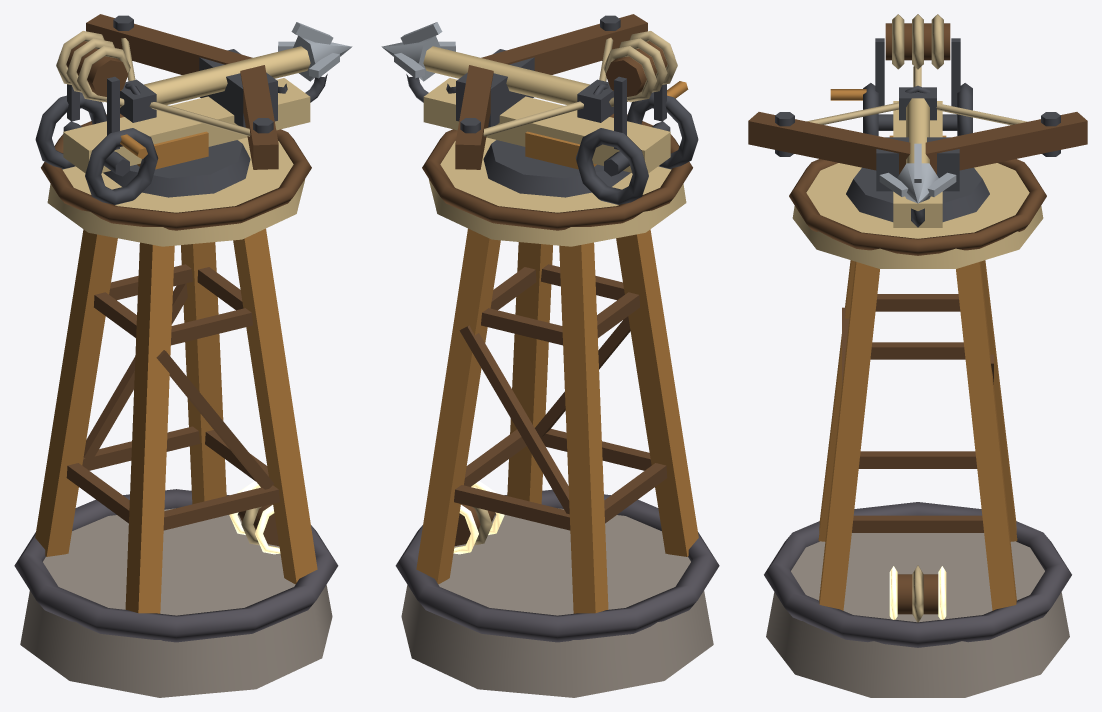
File: tower_ballista_harpoon.glb
The picture shows the model from 3 angles, left to right: view 1: azimuth 30°, elevation 25°; view 2: azimuth 150°, elevation 25°; view 3: azimuth 270°, elevation 25°; orthographic projection. The views are drawn at different scales.
Visible parts, largest first — view 1: base, leg_wn, leg_en, base_rim, leg_ws, deck, leg_es, deck_rim, stock, turret_ring, bow_arm_r, bolt_shaft (+25 smaller); view 2: base, leg_ws, leg_es, base_rim, leg_wn, deck, leg_en, deck_rim, stock, turret_ring, bow_arm_l, bolt_shaft (+25 smaller); view 3: base, base_rim, deck, leg_en, leg_es, deck_rim, bow_arm_l, bow_arm_r, turret_ring, ring_e_0.21, ring_w_0.21, leg_ws (+21 smaller).
Part boxes in pixels (x1,y1,x2,y2): base: (20,508,332,697); leg_wn: (125,242,174,613); leg_en: (233,228,317,584); base_rim: (14,489,338,642); leg_ws: (35,229,117,556); deck: (47,137,304,246); leg_es: (181,242,226,504); deck_rim: (41,113,311,230); stock: (63,78,310,173); turret_ring: (103,140,250,197); bow_arm_r: (86,14,252,74); bolt_shaft: (144,46,310,104); base: (401,508,713,697); leg_ws: (559,242,608,613); leg_es: (416,228,500,584); base_rim: (395,489,719,642); leg_wn: (616,229,698,556); deck: (429,137,686,246); leg_en: (507,242,552,504); deck_rim: (422,113,692,230); stock: (423,78,670,173); turret_ring: (483,140,630,197); bow_arm_l: (481,14,647,74); bolt_shaft: (423,46,589,104); base: (766,533,1069,697); base_rim: (764,502,1071,647); deck: (792,163,1043,268); leg_en: (819,261,879,610); leg_es: (956,261,1016,610); deck_rim: (789,159,1046,255); bow_arm_l: (748,112,910,174); bow_arm_r: (925,112,1087,174); turret_ring: (846,167,989,221); ring_e_0.21: (852,515,983,532); ring_w_0.21: (858,451,977,468); leg_ws: (980,260,1017,541).
Bounding box in the file's own units: 0.458 × 0.847 × 0.4469.
